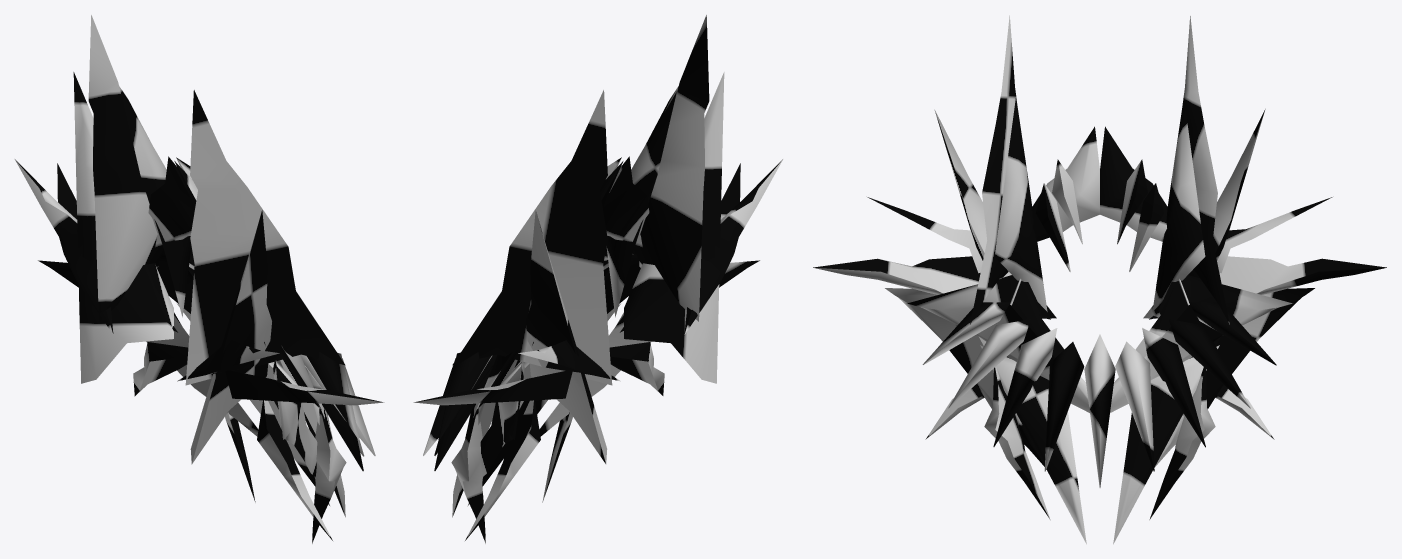
Rendered from galaxygate_zeta.obj.
The picture shows the model from 3 angles, left to right: view 1: azimuth 30°, elevation 25°; view 2: azimuth 150°, elevation 25°; view 3: azimuth 270°, elevation 25°; orthographic projection. The views are drawn at different scales.
Visible parts, largest first — view 1: galaxygate_zeta; view 2: galaxygate_zeta; view 3: galaxygate_zeta.
Part boxes in pixels (<box>): galaxygate_zeta: <box>14,15,384,543</box>; galaxygate_zeta: <box>413,15,783,543</box>; galaxygate_zeta: <box>813,15,1386,544</box>.
Size of the model in its own units: 216 by 521 by 608.
1 material, 1 textured.
